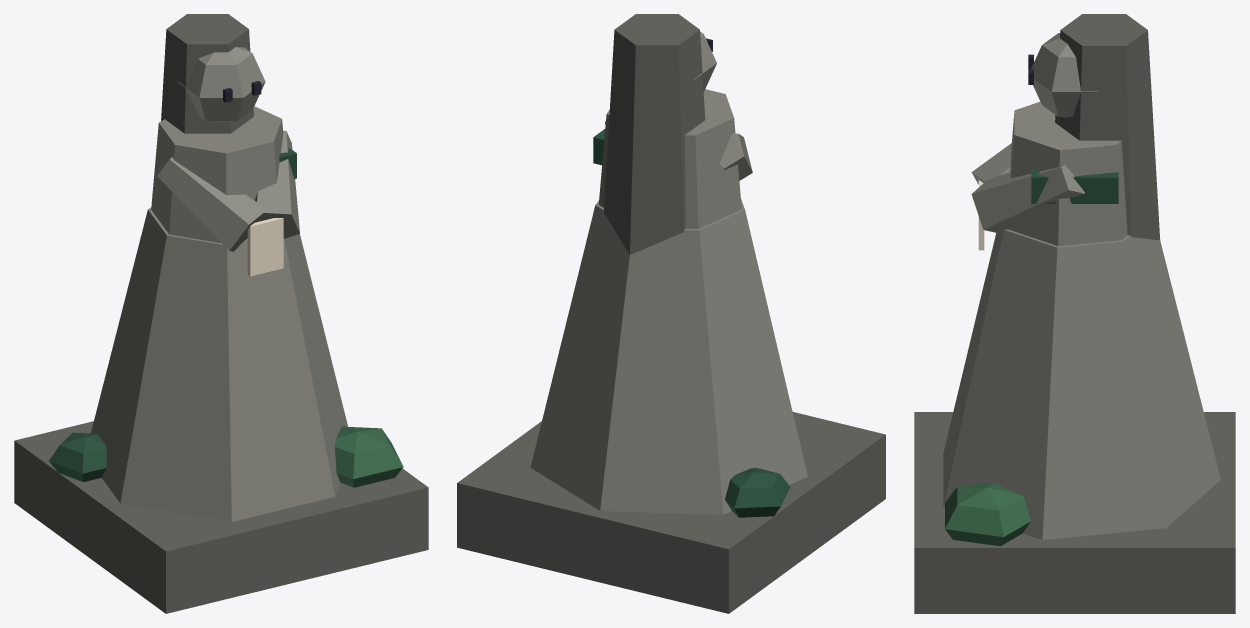
File: boss_b09_mangbu.glb
3 views of the same model, side by side, from view 1: azimuth 30°, elevation 25°; view 2: azimuth 150°, elevation 25°; view 3: azimuth 270°, elevation 25° (orthographic). The views are drawn at different scales.
Visible parts, largest first — view 1: boss_b09_mangbu; view 2: boss_b09_mangbu; view 3: boss_b09_mangbu.
Part boxes in pixels (x1,y1,x2,y2): boss_b09_mangbu: [14, 14, 428, 613]; boss_b09_mangbu: [457, 14, 885, 613]; boss_b09_mangbu: [914, 14, 1235, 613].
Bounding box in the file's own units: 1.15 × 1.95 × 1.1.
